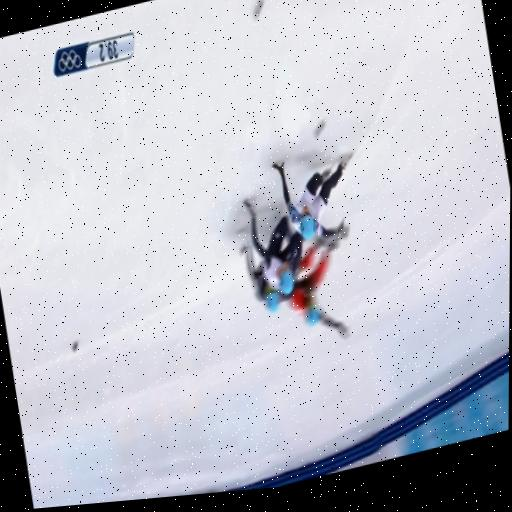Skater: (272, 154, 351, 239), (288, 238, 348, 338), (243, 200, 302, 295), (239, 245, 281, 312)
